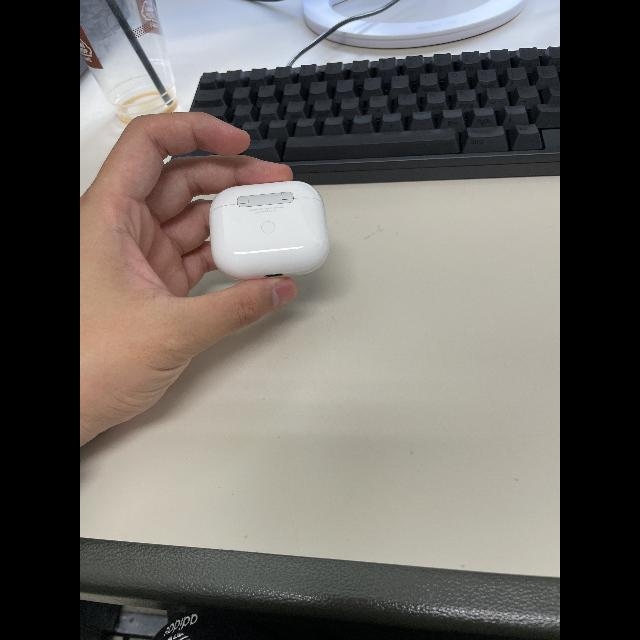airpod3: (207, 178, 329, 280)
